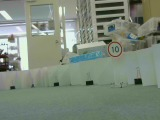speed_10: (105, 40, 124, 59)
